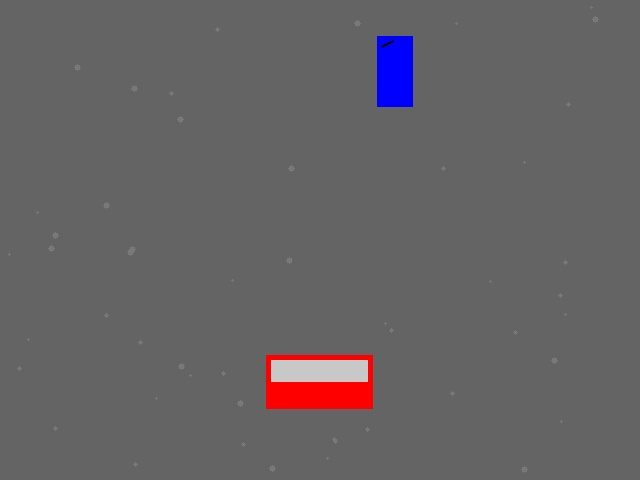car: (266, 355, 372, 408)
motorcycle: (377, 36, 412, 106)
